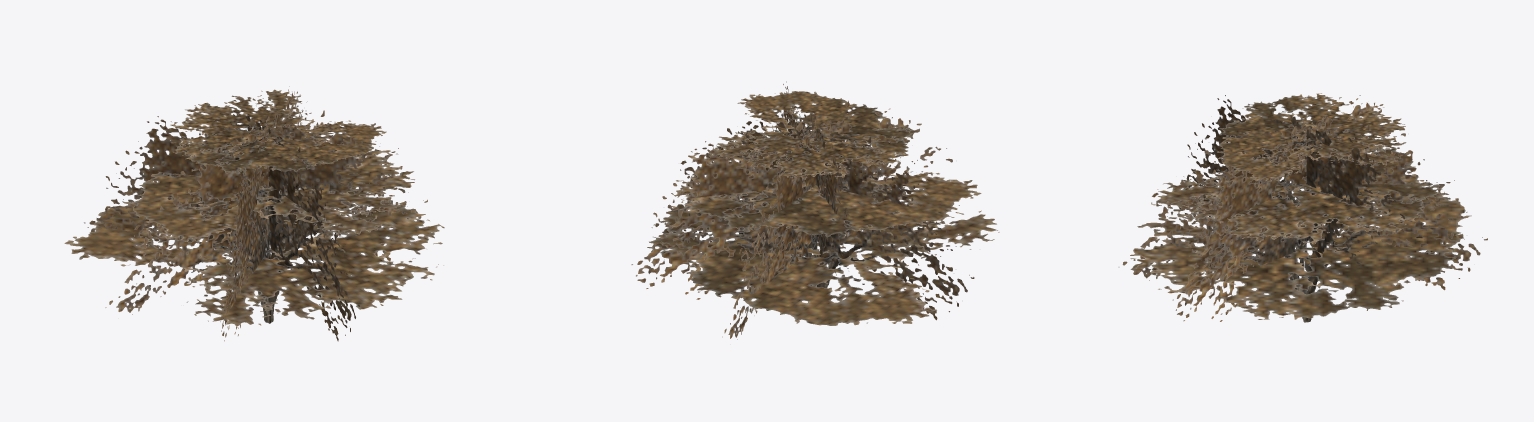
The picture shows the model from 3 angles, left to right: view 1: azimuth 30°, elevation 25°; view 2: azimuth 150°, elevation 25°; view 3: azimuth 270°, elevation 25°; orthographic projection.
Bounding box in the file's own units: 17.56 × 10.25 × 17.53.
1 material, 1 textured.
